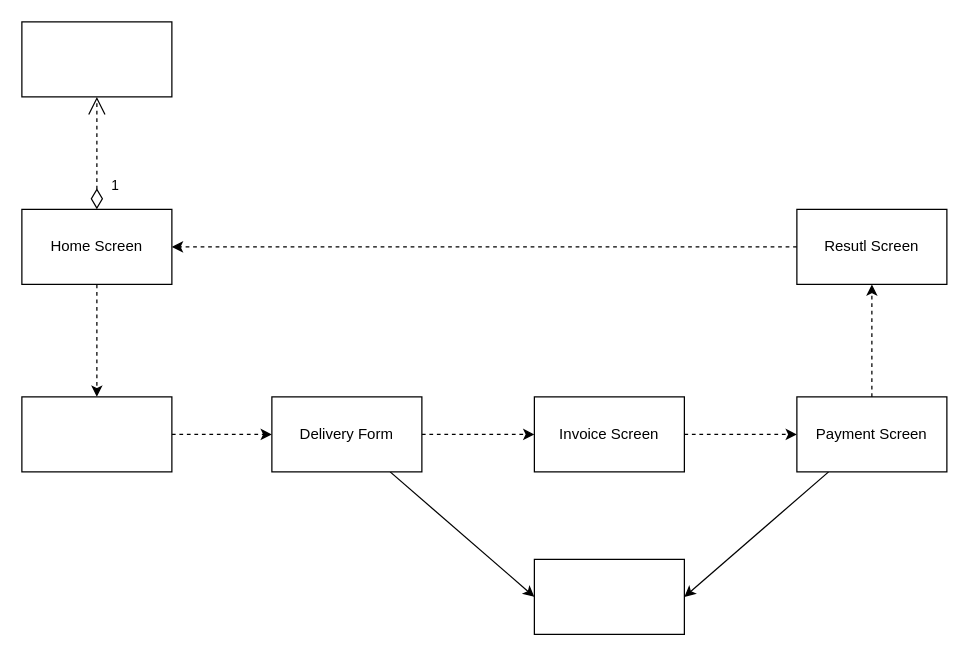
This 969x656 diagram has some shape labels left out. The shapes that lost their labels are listed below. From the top down, each one's centre as x and y in pixels, then its label:
[96,59]: Splash Screen
[96,434]: Cart Screen
[608,596]: Error Screen
